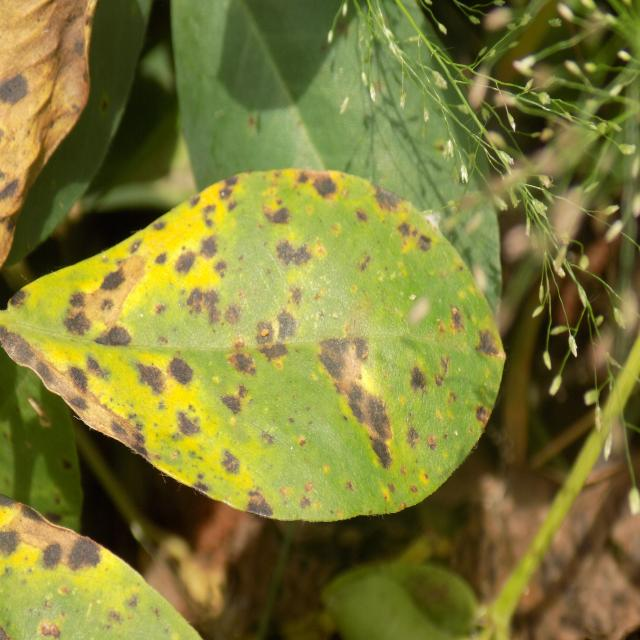Ground nut_tikka leaf spot: (0, 171, 506, 523)
